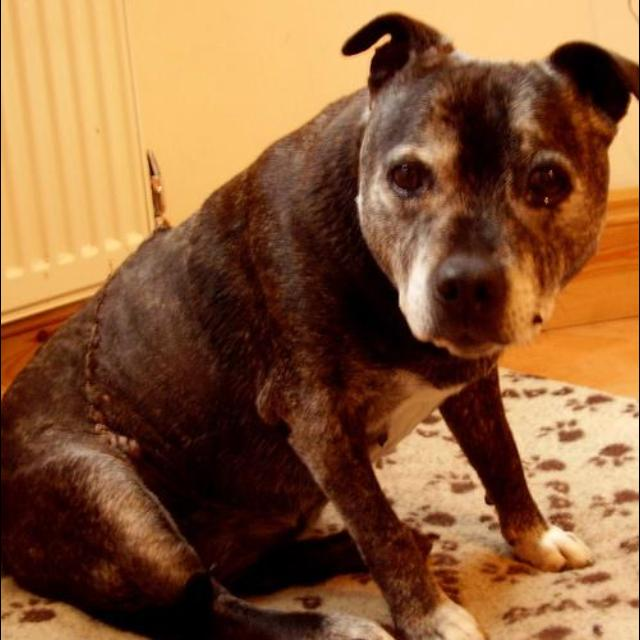staffford: (3, 11, 640, 639)
